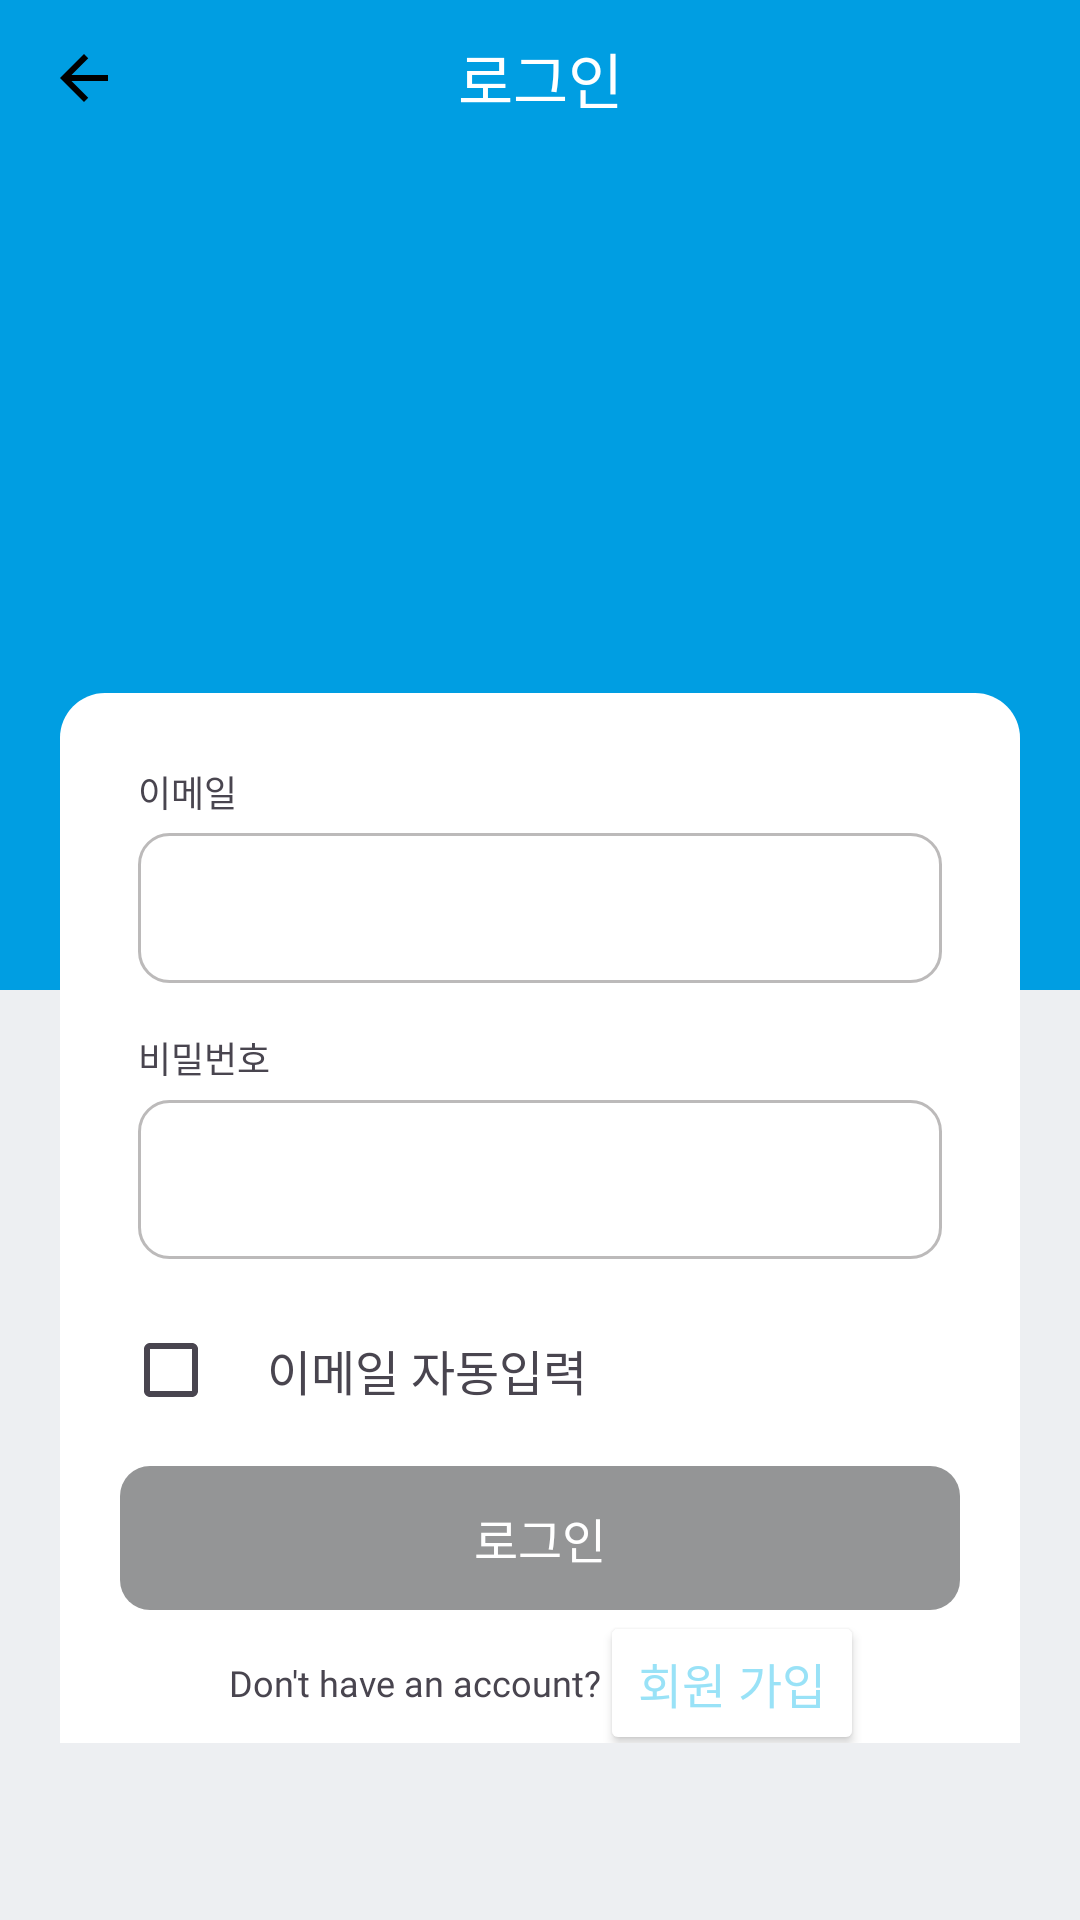

Icon click points for this 1080×1920 phone screenshot, format (x=x, y=y):
arrow back: (x=84, y=78)
